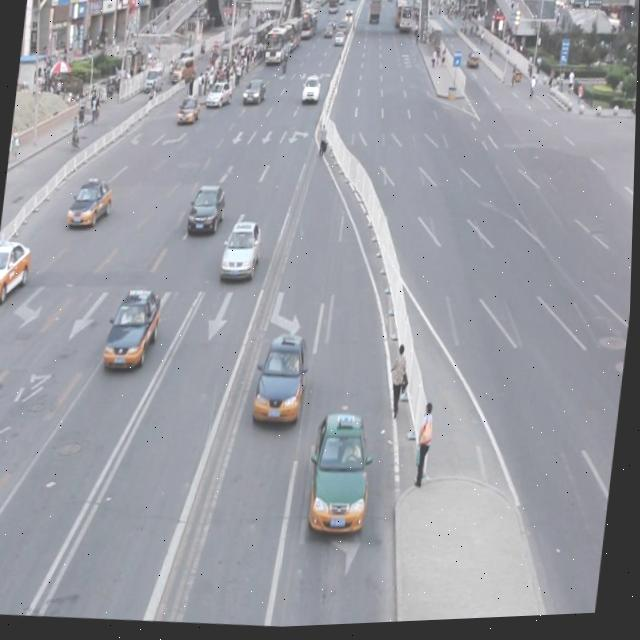car: (307, 409, 380, 539), (252, 331, 313, 432), (102, 286, 164, 373), (220, 219, 266, 284), (66, 176, 116, 233), (186, 181, 228, 238), (0, 236, 34, 306)
